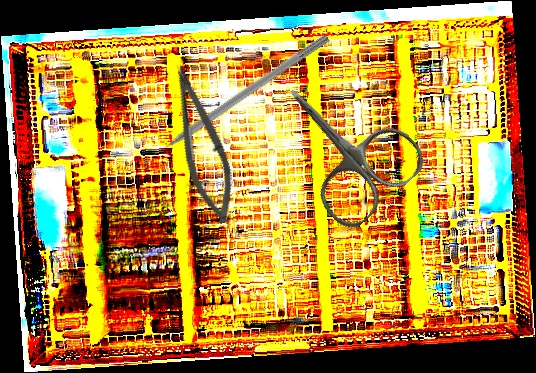Iris Scissors: (251, 52, 432, 236)
Micro Scissor: (154, 61, 248, 229)
Pusher: (138, 31, 331, 167)
